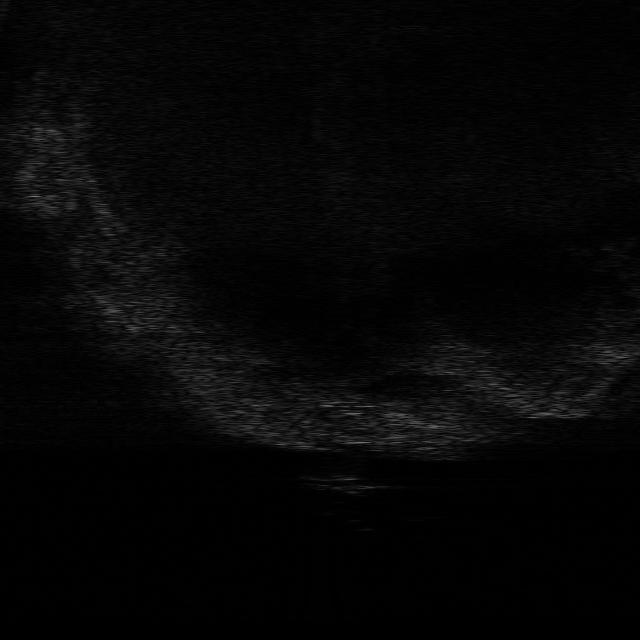plane: (298, 473, 392, 499)
